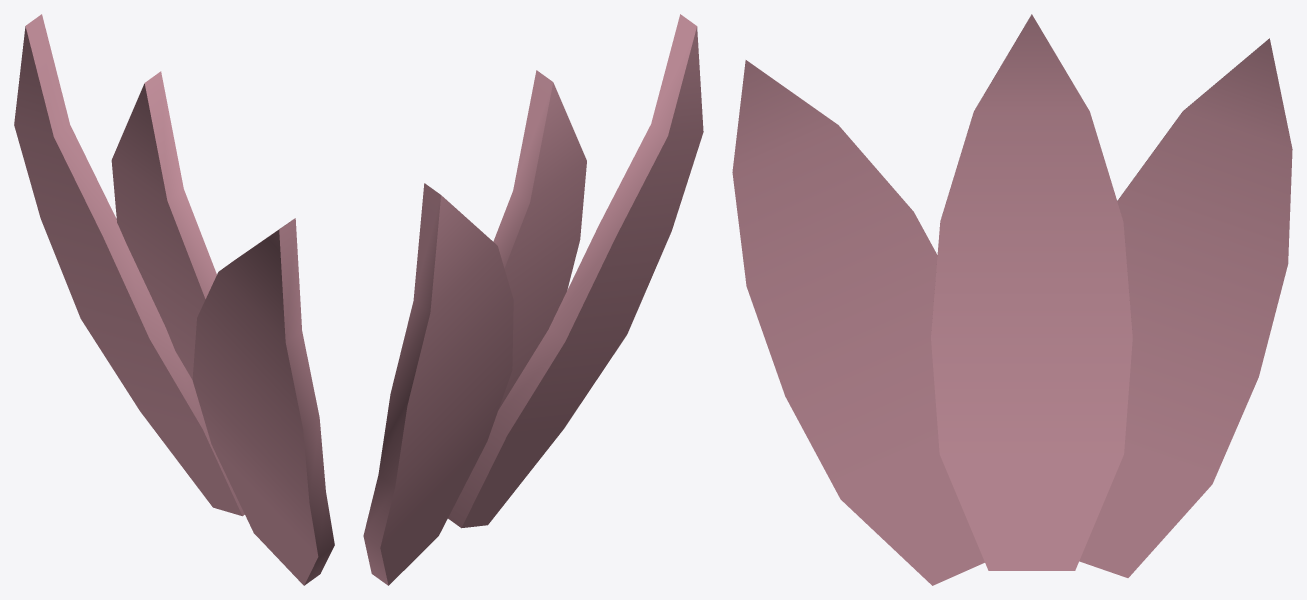
File: Pink Grass.fbx
The picture shows the model from 3 angles, left to right: view 1: azimuth 30°, elevation 25°; view 2: azimuth 150°, elevation 25°; view 3: azimuth 270°, elevation 25°; orthographic projection. The views are drawn at different scales.
Parts seen in each view (by area): view 1: pCube2, pCube3, pCube1; view 2: pCube3, pCube2, pCube1; view 3: pCube1, pCube2, pCube3.
Part boxes in pixels (bbox=[...]): pCube2: bbox=[192, 218, 334, 585]; pCube3: bbox=[14, 14, 244, 516]; pCube1: bbox=[111, 71, 216, 379]; pCube3: bbox=[363, 183, 513, 585]; pCube2: bbox=[448, 14, 703, 528]; pCube1: bbox=[493, 70, 586, 410]; pCube1: bbox=[931, 14, 1132, 570]; pCube2: bbox=[732, 60, 984, 585]; pCube3: bbox=[1079, 38, 1292, 577].
Size of the model in its own units: 0.489 by 1.46 by 1.42.
